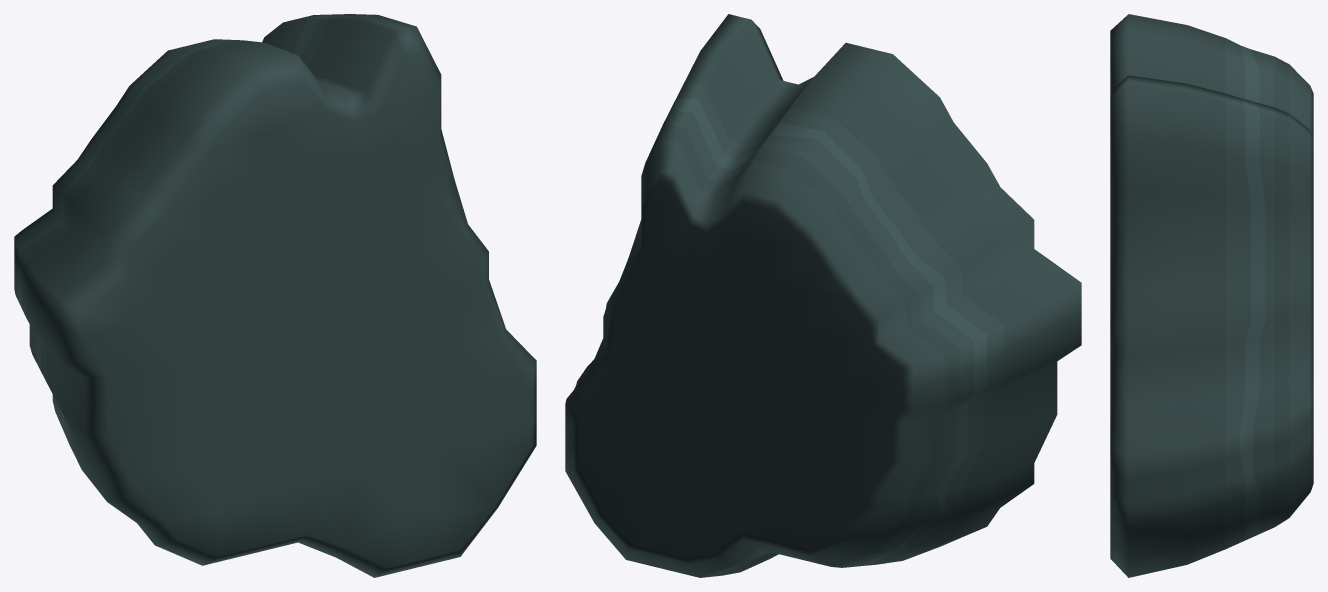
The model's file is AlienPlateuMedium.002.glb.
3 renders of one model, left to right at view 1: azimuth 30°, elevation 25°; view 2: azimuth 150°, elevation 25°; view 3: azimuth 270°, elevation 25°, orthographic. The views are drawn at different scales.
Parts seen in each view (by area): view 1: AlienPlateuMedium.002; view 2: AlienPlateuMedium.002; view 3: AlienPlateuMedium.002.
Boxes of the visible parts, box(x1,y1,x2,y2) form: AlienPlateuMedium.002: box(14, 14, 536, 577); AlienPlateuMedium.002: box(565, 14, 1081, 577); AlienPlateuMedium.002: box(1110, 14, 1313, 577).
Size of the model in its own units: 5155 by 5582 by 2173.
